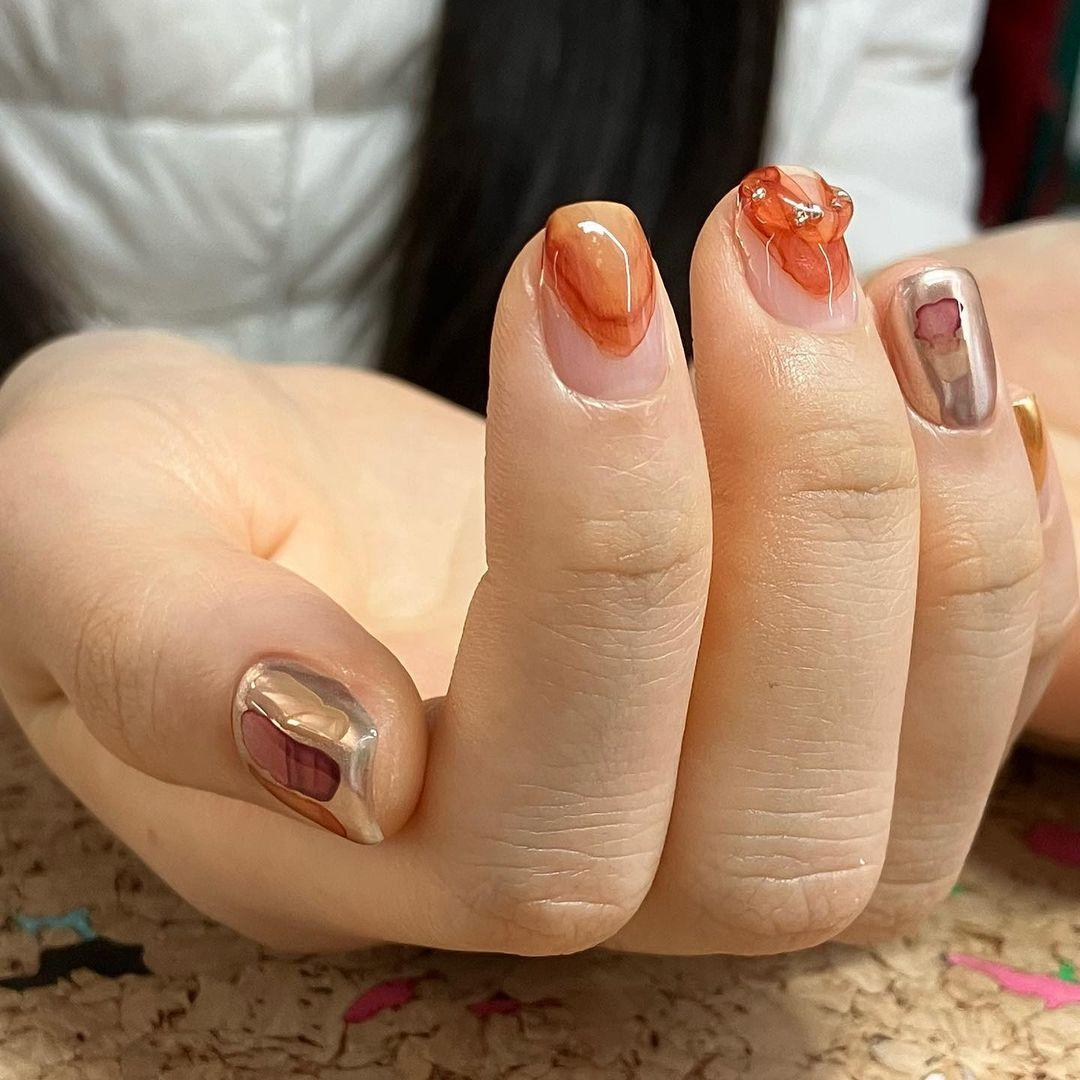nail: (230, 654, 384, 844), (883, 263, 999, 431)
